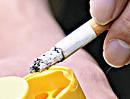smoke: (28, 8, 119, 74)
